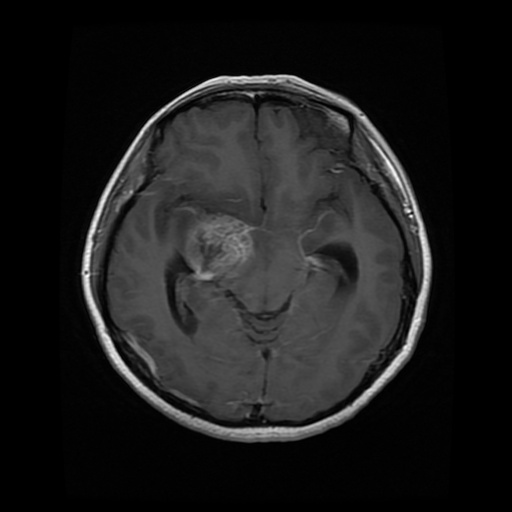glioma: (166, 204, 256, 280)
